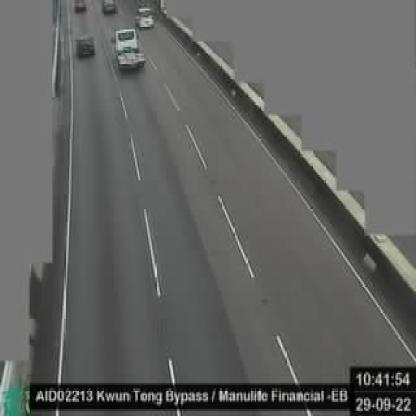Car: (69, 31, 107, 68), (134, 4, 156, 31), (67, 0, 95, 14), (97, 0, 120, 17)
Truck: (108, 22, 155, 80)
